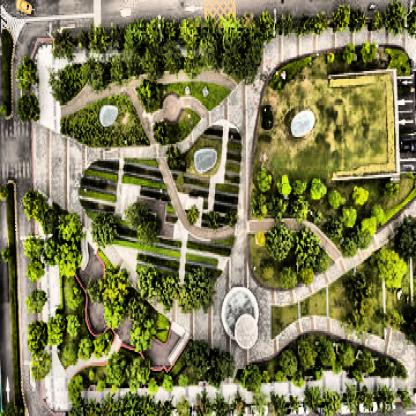tree-top: (125, 306, 172, 350), (375, 240, 415, 289), (177, 266, 214, 312), (101, 267, 129, 326), (48, 65, 88, 103), (222, 28, 255, 74), (127, 201, 158, 248), (196, 20, 224, 68), (292, 225, 320, 271), (135, 77, 168, 113), (395, 209, 416, 262), (186, 338, 214, 374), (28, 350, 56, 383), (58, 210, 85, 244), (268, 223, 292, 260), (88, 214, 112, 249), (295, 334, 315, 376), (124, 18, 148, 52), (109, 52, 132, 87), (23, 188, 48, 220), (105, 354, 127, 390), (176, 16, 200, 49), (50, 27, 72, 63), (84, 20, 108, 53), (138, 267, 160, 302), (58, 242, 80, 277), (24, 286, 51, 314), (183, 45, 203, 82), (160, 270, 178, 311), (141, 44, 162, 79), (348, 268, 370, 300), (19, 57, 38, 94), (385, 0, 404, 37), (316, 330, 334, 369), (85, 58, 105, 92), (18, 91, 40, 121), (347, 303, 369, 333), (242, 360, 260, 396), (26, 254, 49, 282), (331, 4, 351, 35), (146, 18, 167, 47), (27, 319, 46, 351), (162, 46, 182, 76), (50, 314, 66, 351), (269, 385, 288, 416), (24, 230, 44, 259), (256, 10, 274, 42), (65, 372, 87, 398), (41, 206, 59, 237), (306, 384, 324, 414), (358, 382, 376, 411), (93, 332, 114, 356), (336, 339, 352, 370), (102, 390, 121, 416), (360, 40, 378, 67), (164, 17, 180, 47), (292, 197, 309, 225), (309, 177, 327, 203), (172, 393, 192, 416), (257, 168, 274, 195), (184, 203, 201, 230), (376, 352, 392, 380), (326, 388, 342, 416), (270, 197, 290, 219), (341, 233, 356, 262), (89, 276, 103, 307), (281, 346, 295, 377), (68, 283, 85, 308), (252, 194, 267, 222), (346, 383, 360, 413), (385, 178, 401, 204), (122, 390, 138, 416), (376, 384, 392, 410), (154, 121, 172, 144), (166, 142, 184, 165), (279, 265, 296, 289), (341, 204, 357, 229), (311, 10, 326, 36), (194, 390, 209, 416), (360, 344, 372, 376), (299, 264, 315, 288), (278, 12, 292, 39), (294, 13, 309, 38), (138, 391, 153, 416), (212, 390, 226, 416), (406, 303, 416, 339), (341, 46, 356, 69), (278, 173, 293, 196), (69, 314, 82, 340), (350, 9, 364, 33), (290, 177, 306, 198), (80, 334, 94, 358), (328, 187, 343, 209), (353, 184, 368, 206), (226, 207, 237, 232), (209, 209, 222, 230), (355, 229, 367, 251), (371, 11, 383, 32), (254, 228, 265, 250)
